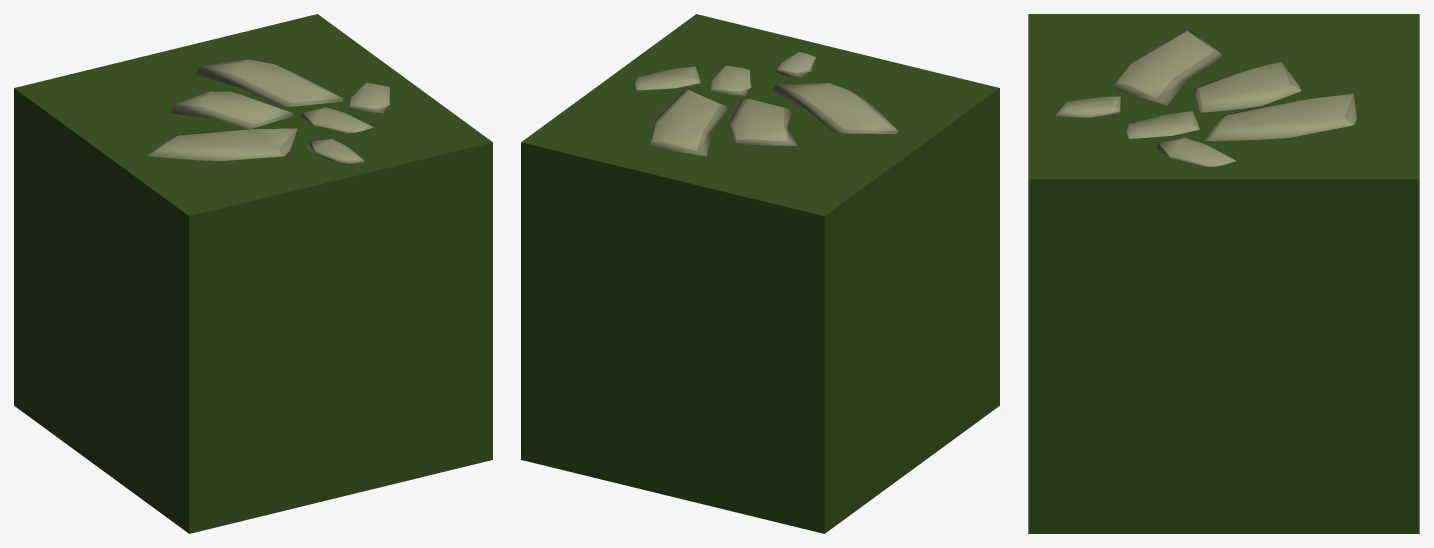
Rendered from E_Trail06.fbx.
The picture shows the model from 3 angles, left to right: view 1: azimuth 30°, elevation 25°; view 2: azimuth 150°, elevation 25°; view 3: azimuth 270°, elevation 25°; orthographic projection. The views are drawn at different scales.
Parts seen in each view (by area): view 1: E_Trail06; view 2: E_Trail06; view 3: E_Trail06.
Part boxes in pixels (x1,y1,x2,y2): E_Trail06: [14, 14, 492, 533]; E_Trail06: [521, 14, 999, 533]; E_Trail06: [1028, 14, 1419, 533].
Size of the model in its own units: 100 by 102 by 100.
